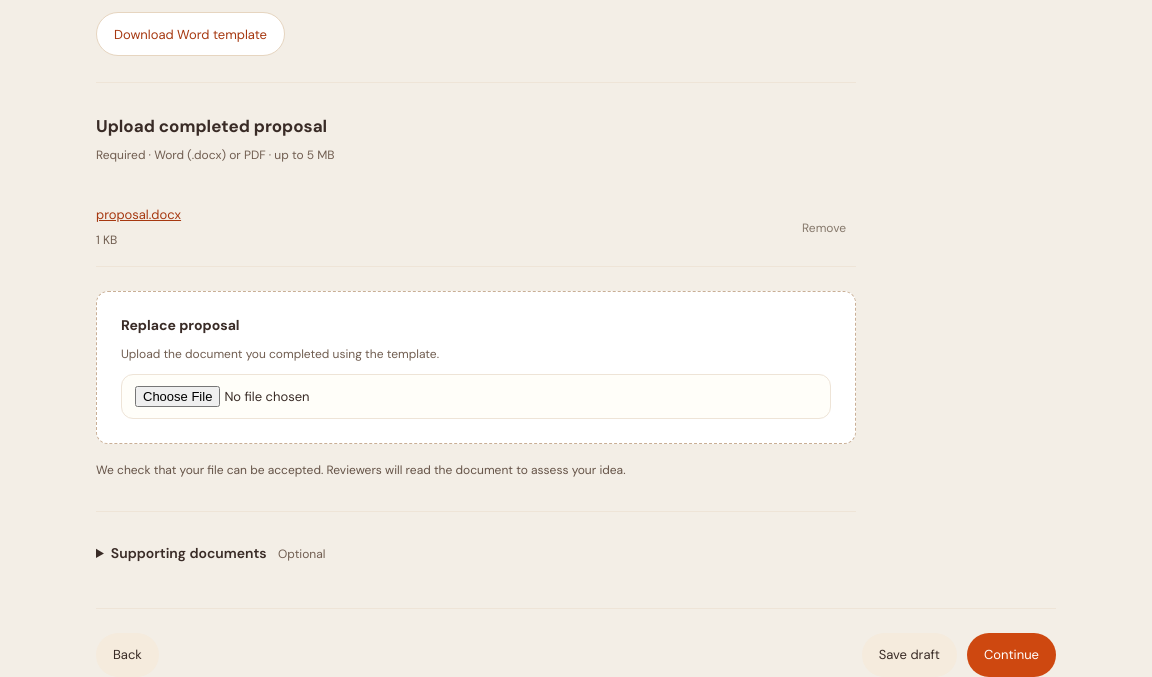
uploads a Word proposal and allows progression to review
Earlier steps of the test are not shown.
(page scrolled)
Expected: the link "proposal.docx" is shown, left=96, top=206, right=181, bottom=223
Click the button "Continue".
click(1012, 655)  # box left=967, top=633, right=1056, bottom=676
(page scrolled)
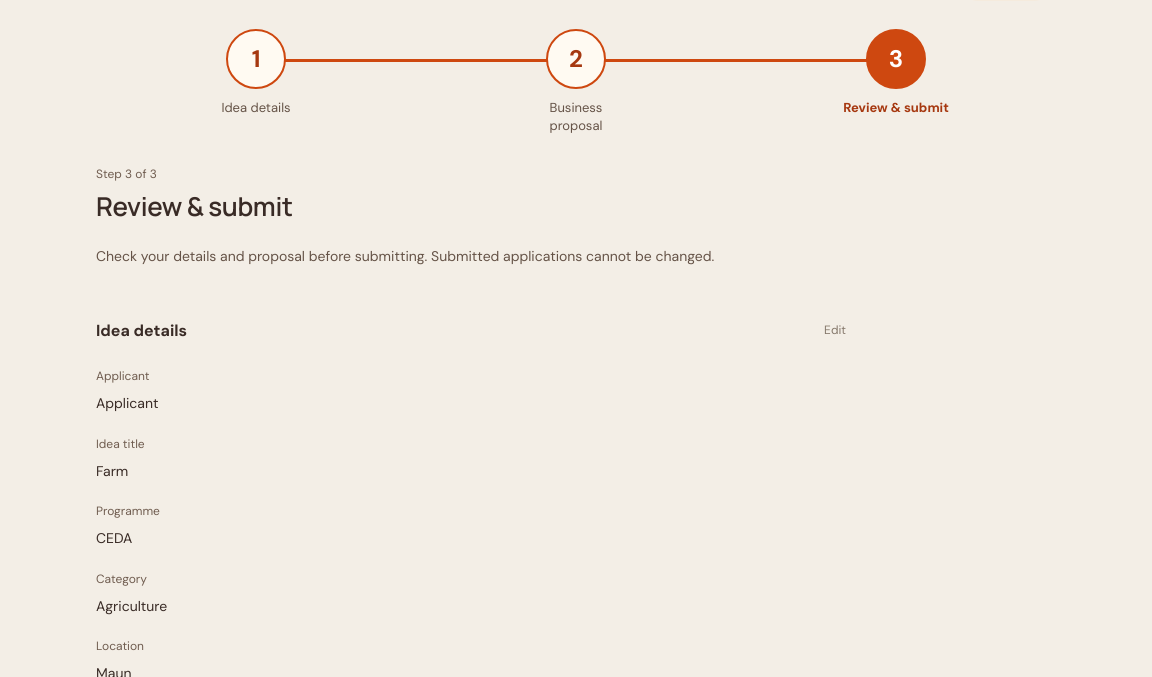
Now the heading "Review & submit" is shown, box left=96, top=188, right=292, bottom=224
